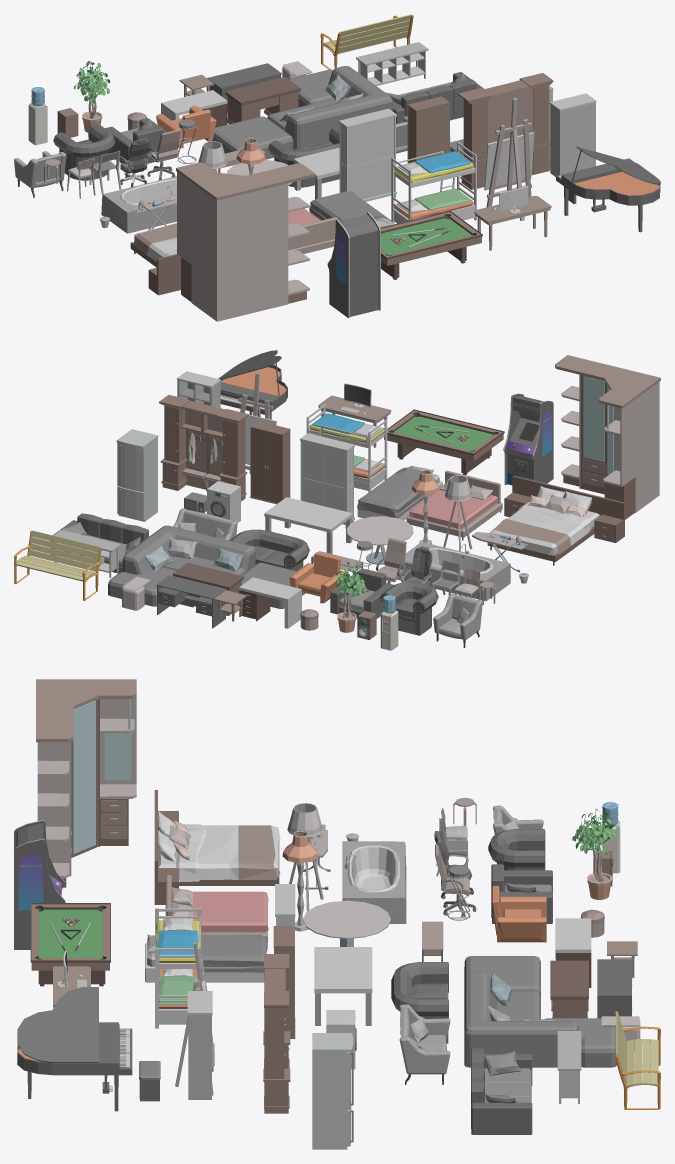
The model's file is props.glb.
3 renders of one model, top to bottom at view 1: azimuth 30°, elevation 25°; view 2: azimuth 150°, elevation 25°; view 3: azimuth 270°, elevation 25°, orthographic. The views are drawn at different scales.
Parts seen in each view (by area): view 1: furniture_closet_storage, furniture_couch_corner, furniture_closet_organizer, furniture_game_arcade, furniture_bedroom_armoire, furniture_bedroom_bunk, instrument_piano, furniture_game_pool, furniture_storage_bookshelf, prop_easel, bathroom_tub, furniture_kitchen_pantry (+28 smaller); view 2: furniture_closet_storage, furniture_bedroom_king, furniture_couch_corner, furniture_closet_organizer, furniture_game_pool, furniture_game_arcade, furniture_bedroom_armoire, appliance_fridge, furniture_bedroom_queen, furniture_bench_outdoor, furniture_kitchen_pantry, furniture_bedroom_bunk (+30 smaller); view 3: furniture_closet_storage, furniture_couch_corner, instrument_piano, furniture_bedroom_king, furniture_game_pool, furniture_couch_basic, appliance_fridge, furniture_bedroom_bunk, bathroom_tub, furniture_game_arcade, furniture_closet_organizer, furniture_bedroom_queen (+26 smaller).
Boxes of the visible parts, left/top/right/bottom form: furniture_closet_storage: left=176, top=162, right=315, bottom=321; furniture_couch_corner: left=211, top=61, right=392, bottom=159; furniture_closet_organizer: left=458, top=73, right=553, bottom=189; furniture_game_arcade: left=327, top=212, right=380, bottom=318; furniture_bedroom_armoire: left=338, top=108, right=396, bottom=201; furniture_bedroom_bunk: left=391, top=141, right=476, bottom=223; instrument_piano: left=556, top=146, right=660, bottom=232; furniture_game_pool: left=380, top=211, right=482, bottom=279; furniture_storage_bookshelf: left=549, top=93, right=596, bottom=176; prop_easel: left=484, top=98, right=534, bottom=220; bathroom_tub: left=101, top=176, right=176, bottom=233; furniture_kitchen_pantry: left=407, top=96, right=450, bottom=163; furniture_closet_storage: left=555, top=355, right=660, bottom=519; furniture_bedroom_king: left=487, top=475, right=624, bottom=565; furniture_couch_corner: left=108, top=525, right=305, bottom=610; furniture_closet_organizer: left=159, top=395, right=248, bottom=501; furniture_game_pool: left=384, top=409, right=504, bottom=474; furniture_game_arcade: left=503, top=393, right=553, bottom=485; furniture_bedroom_armoire: left=300, top=433, right=354, bottom=528; appliance_fridge: left=116, top=429, right=158, bottom=521; furniture_bedroom_queen: left=406, top=470, right=502, bottom=540; furniture_bench_outdoor: left=14, top=530, right=101, bottom=600; furniture_kitchen_pantry: left=250, top=421, right=290, bottom=504; furniture_bedroom_bunk: left=306, top=404, right=387, bottom=492; furniture_closet_storage: left=36, top=679, right=136, bottom=887; furniture_couch_corner: left=464, top=956, right=640, bottom=1067; instrument_piano: left=17, top=987, right=160, bottom=1111; furniture_bedroom_king: left=154, top=790, right=280, bottom=904; furniture_game_pool: left=30, top=903, right=110, bottom=986; furniture_couch_basic: left=471, top=1048, right=532, bottom=1134; appliance_fridge: left=312, top=1033, right=353, bottom=1149; furniture_bedroom_bunk: left=155, top=908, right=207, bottom=1028; bathroom_tub: left=342, top=841, right=406, bottom=923; furniture_game_arcade: left=14, top=820, right=65, bottom=949; furniture_closet_organizer: left=263, top=954, right=290, bottom=1113; furniture_bedroom_queen: left=165, top=875, right=268, bottom=942.
Size of the model in its own units: 9.49 by 3.22 by 9.41.
